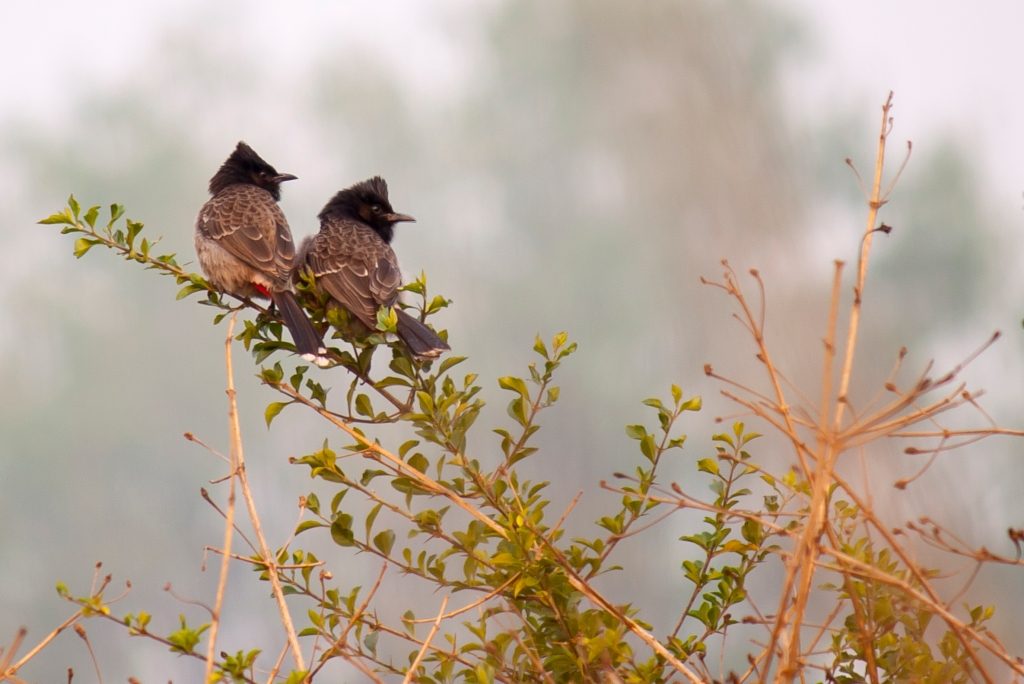bird: (184, 135, 322, 355), (294, 176, 457, 356)
